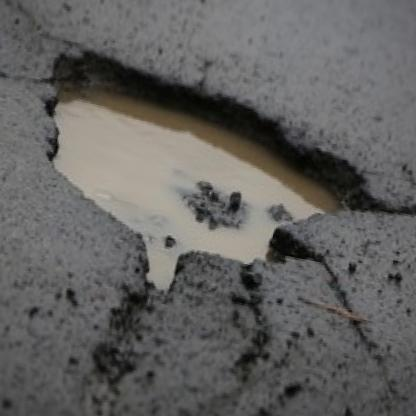pothole: (12, 39, 393, 331)
